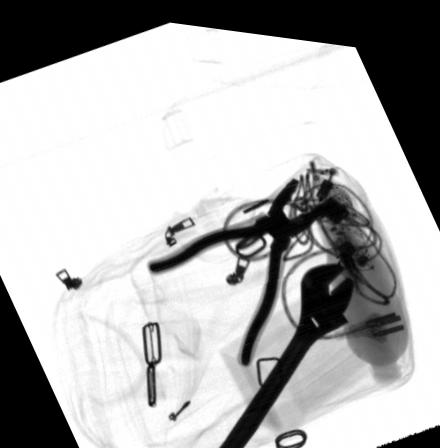Pliers: (147, 166, 331, 358)
Wrench: (214, 252, 354, 448)
